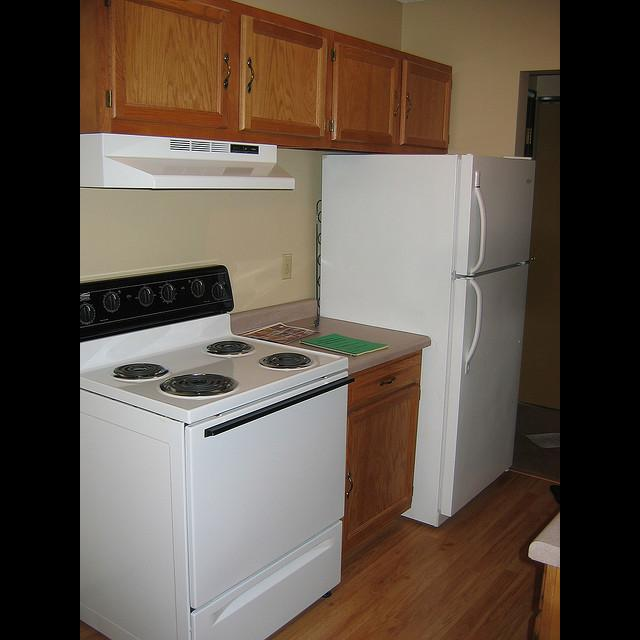Oven: (80, 265, 348, 633)
Refrigerator: (321, 156, 535, 517)
